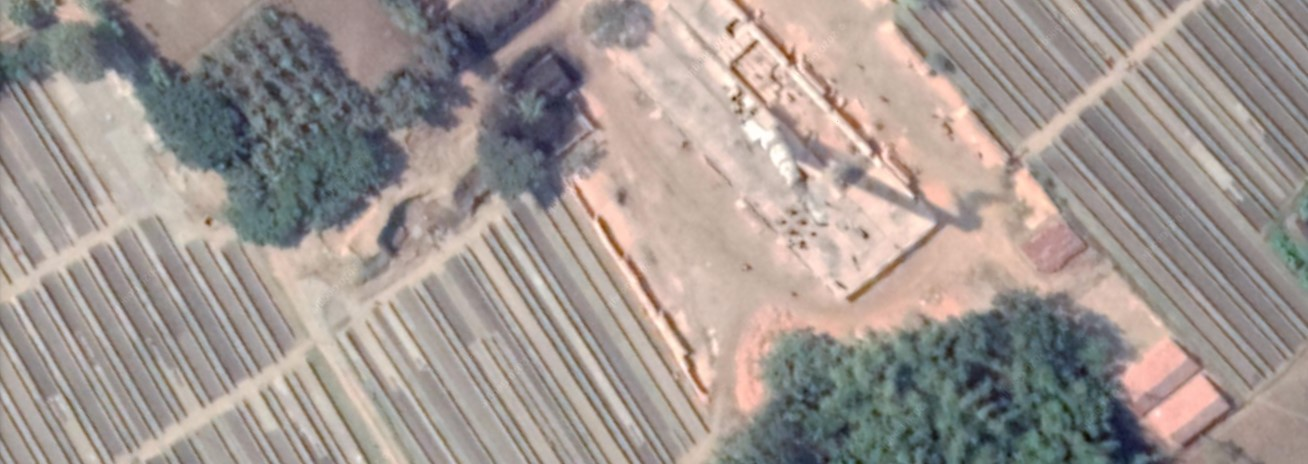kiln: (670, 8, 874, 309)
